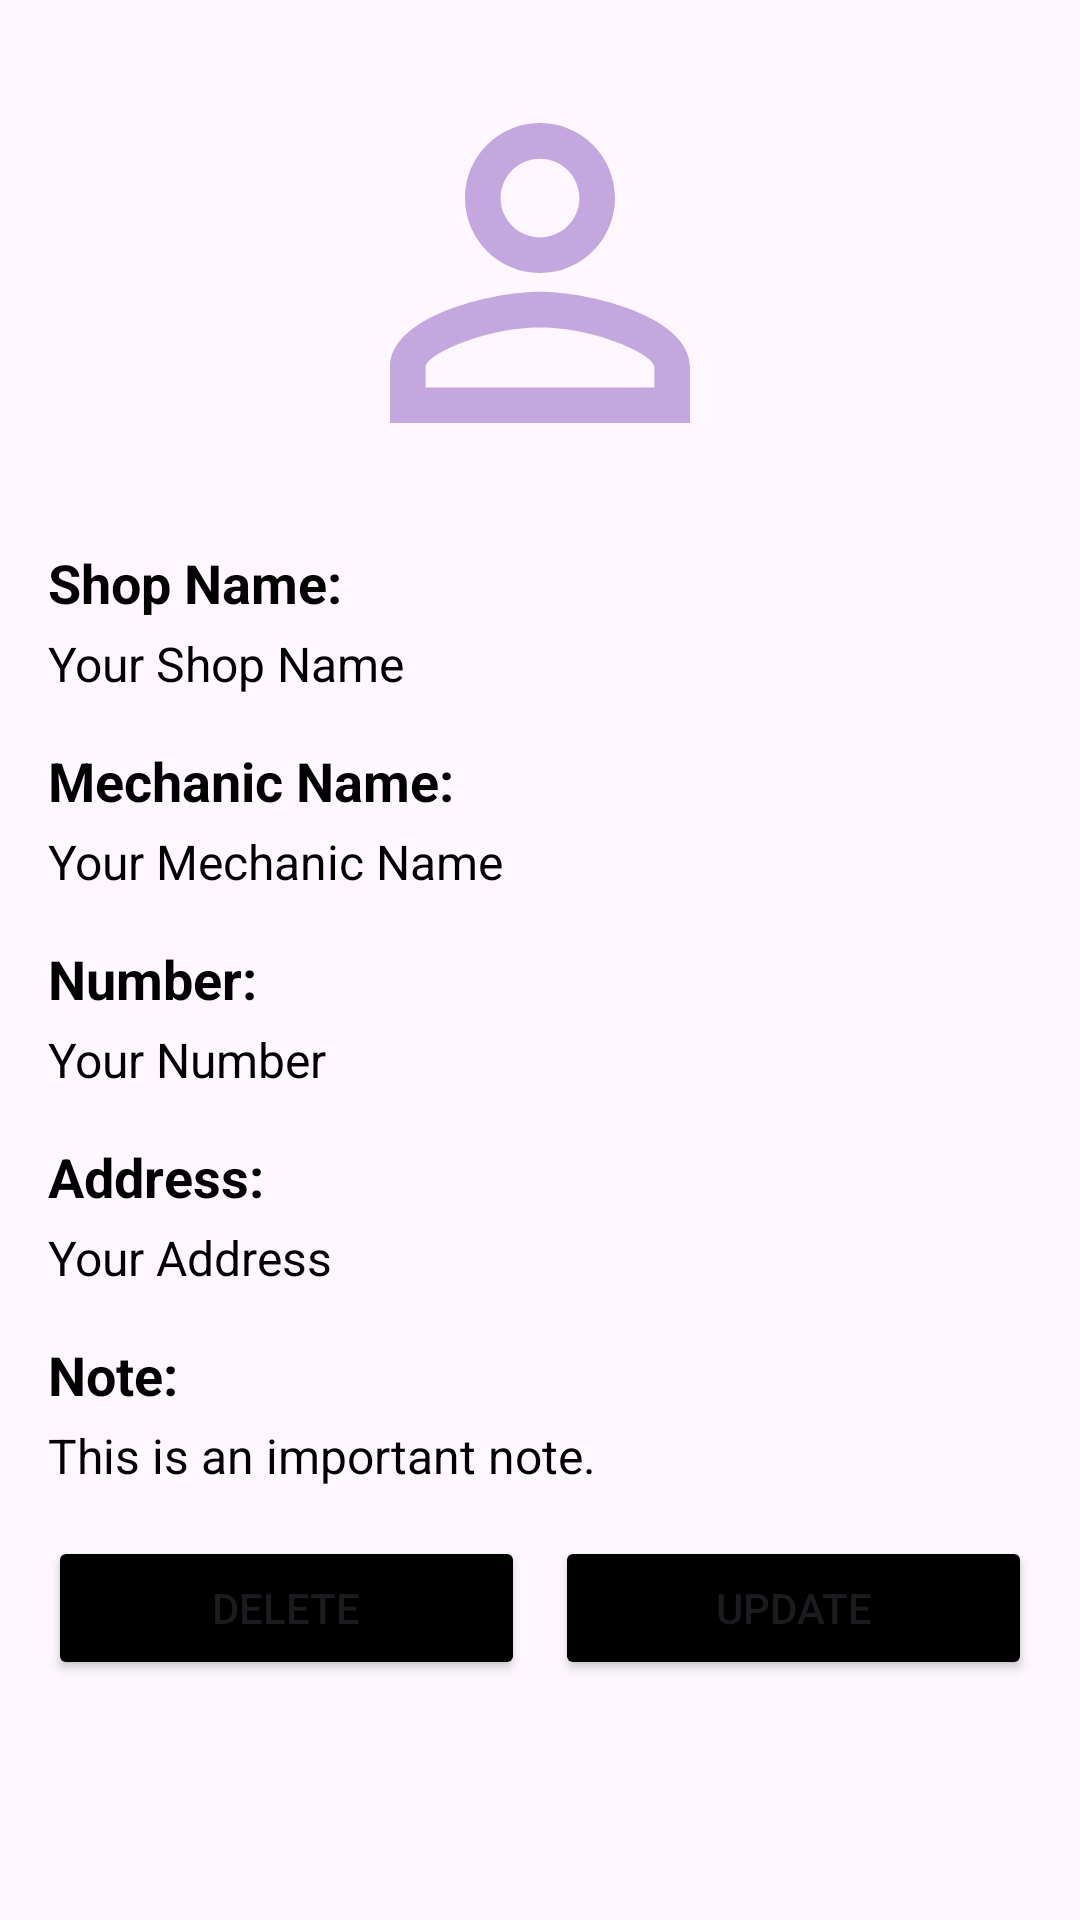

Named icons in this screenshot (1080w x 1920h) and their centers, point (x, y):
perm identity: point (540, 273)
